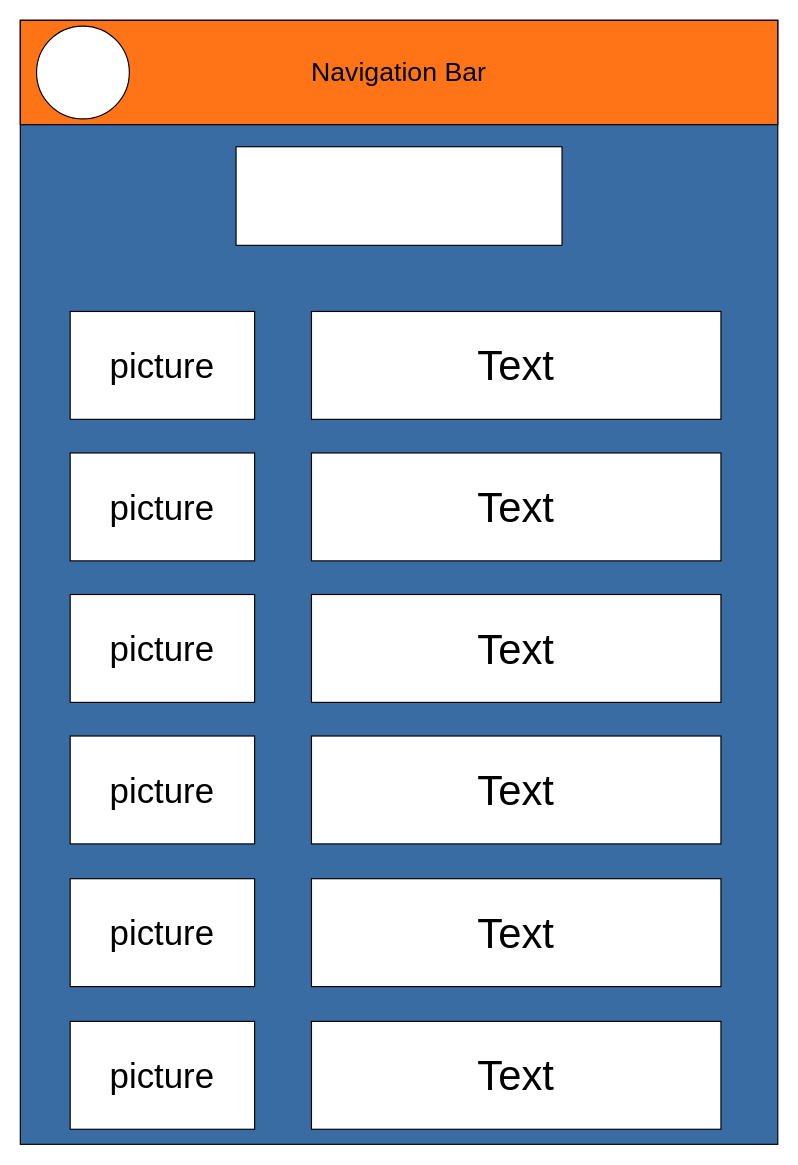
Image size: 798x1165. Some labels were removed from this diagram. Here are the shapes that lost their labels. From the top down, the centre of each, then its label:
At (82,72): "Logo".
At (398,195): "Devon Dive Adventures".
